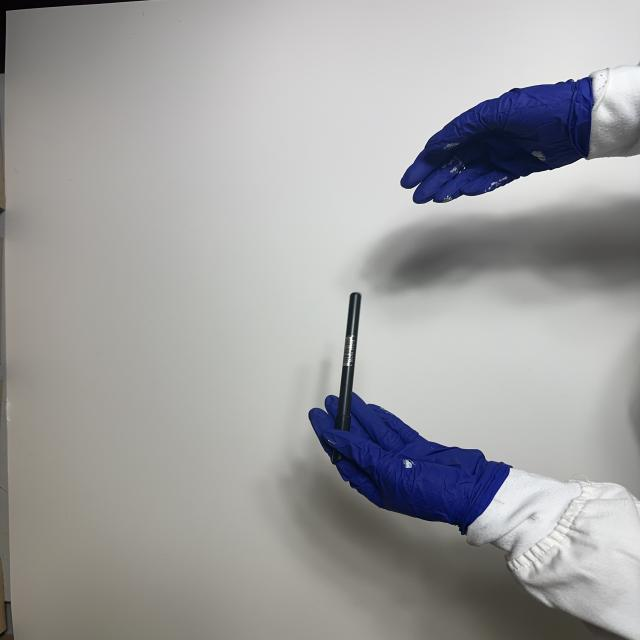gloves_contaminated: (310, 396, 508, 534), (401, 78, 595, 204)
